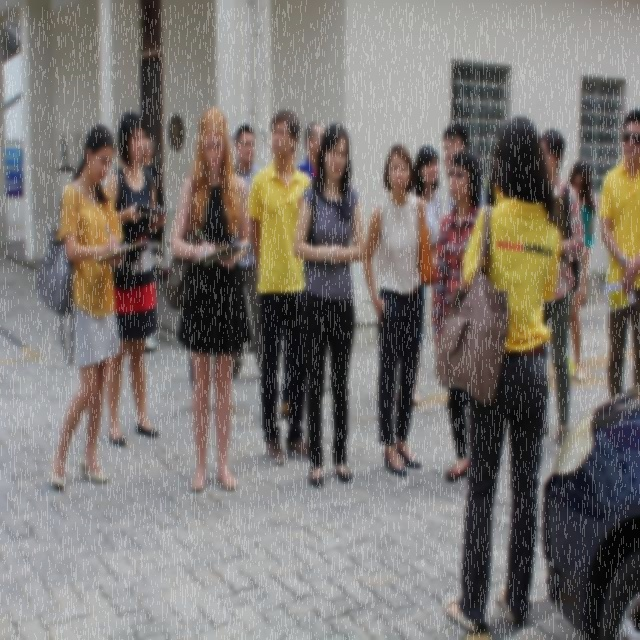pessoa: (442, 111, 567, 634), (160, 102, 254, 494), (46, 121, 127, 490), (291, 120, 369, 490), (362, 144, 430, 476), (102, 110, 168, 446), (248, 110, 310, 464), (431, 148, 484, 483), (258, 124, 310, 423), (540, 128, 585, 448), (597, 107, 640, 399), (116, 136, 167, 354), (228, 122, 266, 380), (410, 145, 443, 406), (566, 157, 598, 382), (442, 120, 488, 212), (292, 122, 326, 186), (484, 144, 508, 208), (187, 349, 195, 391), (58, 134, 68, 164), (231, 402, 236, 414)
